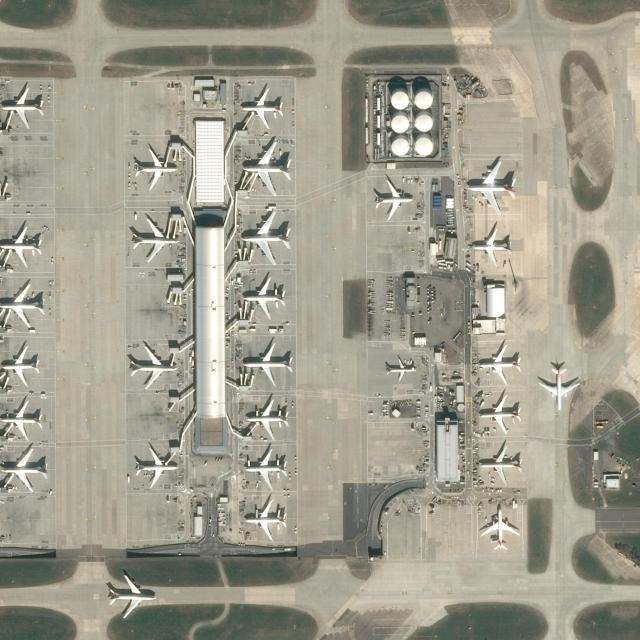aircraft: (464, 157, 519, 215), (241, 211, 293, 263), (242, 140, 292, 194), (240, 339, 292, 387), (104, 572, 156, 618), (125, 344, 177, 388), (128, 217, 180, 260), (1, 281, 47, 329), (1, 449, 48, 494), (536, 364, 580, 412), (479, 504, 522, 552), (475, 443, 524, 485), (133, 444, 179, 488), (242, 274, 288, 318), (243, 398, 290, 441), (474, 344, 524, 384), (2, 83, 45, 129), (372, 176, 415, 222), (240, 86, 284, 128), (478, 394, 524, 434), (244, 500, 288, 541), (0, 224, 42, 266), (132, 148, 176, 188), (471, 224, 512, 266), (243, 450, 288, 488), (2, 398, 42, 439), (3, 346, 42, 386), (385, 358, 417, 380)
